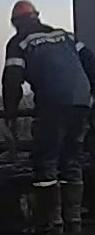helmet: (10, 0, 40, 23)
vest: (0, 27, 93, 112)
